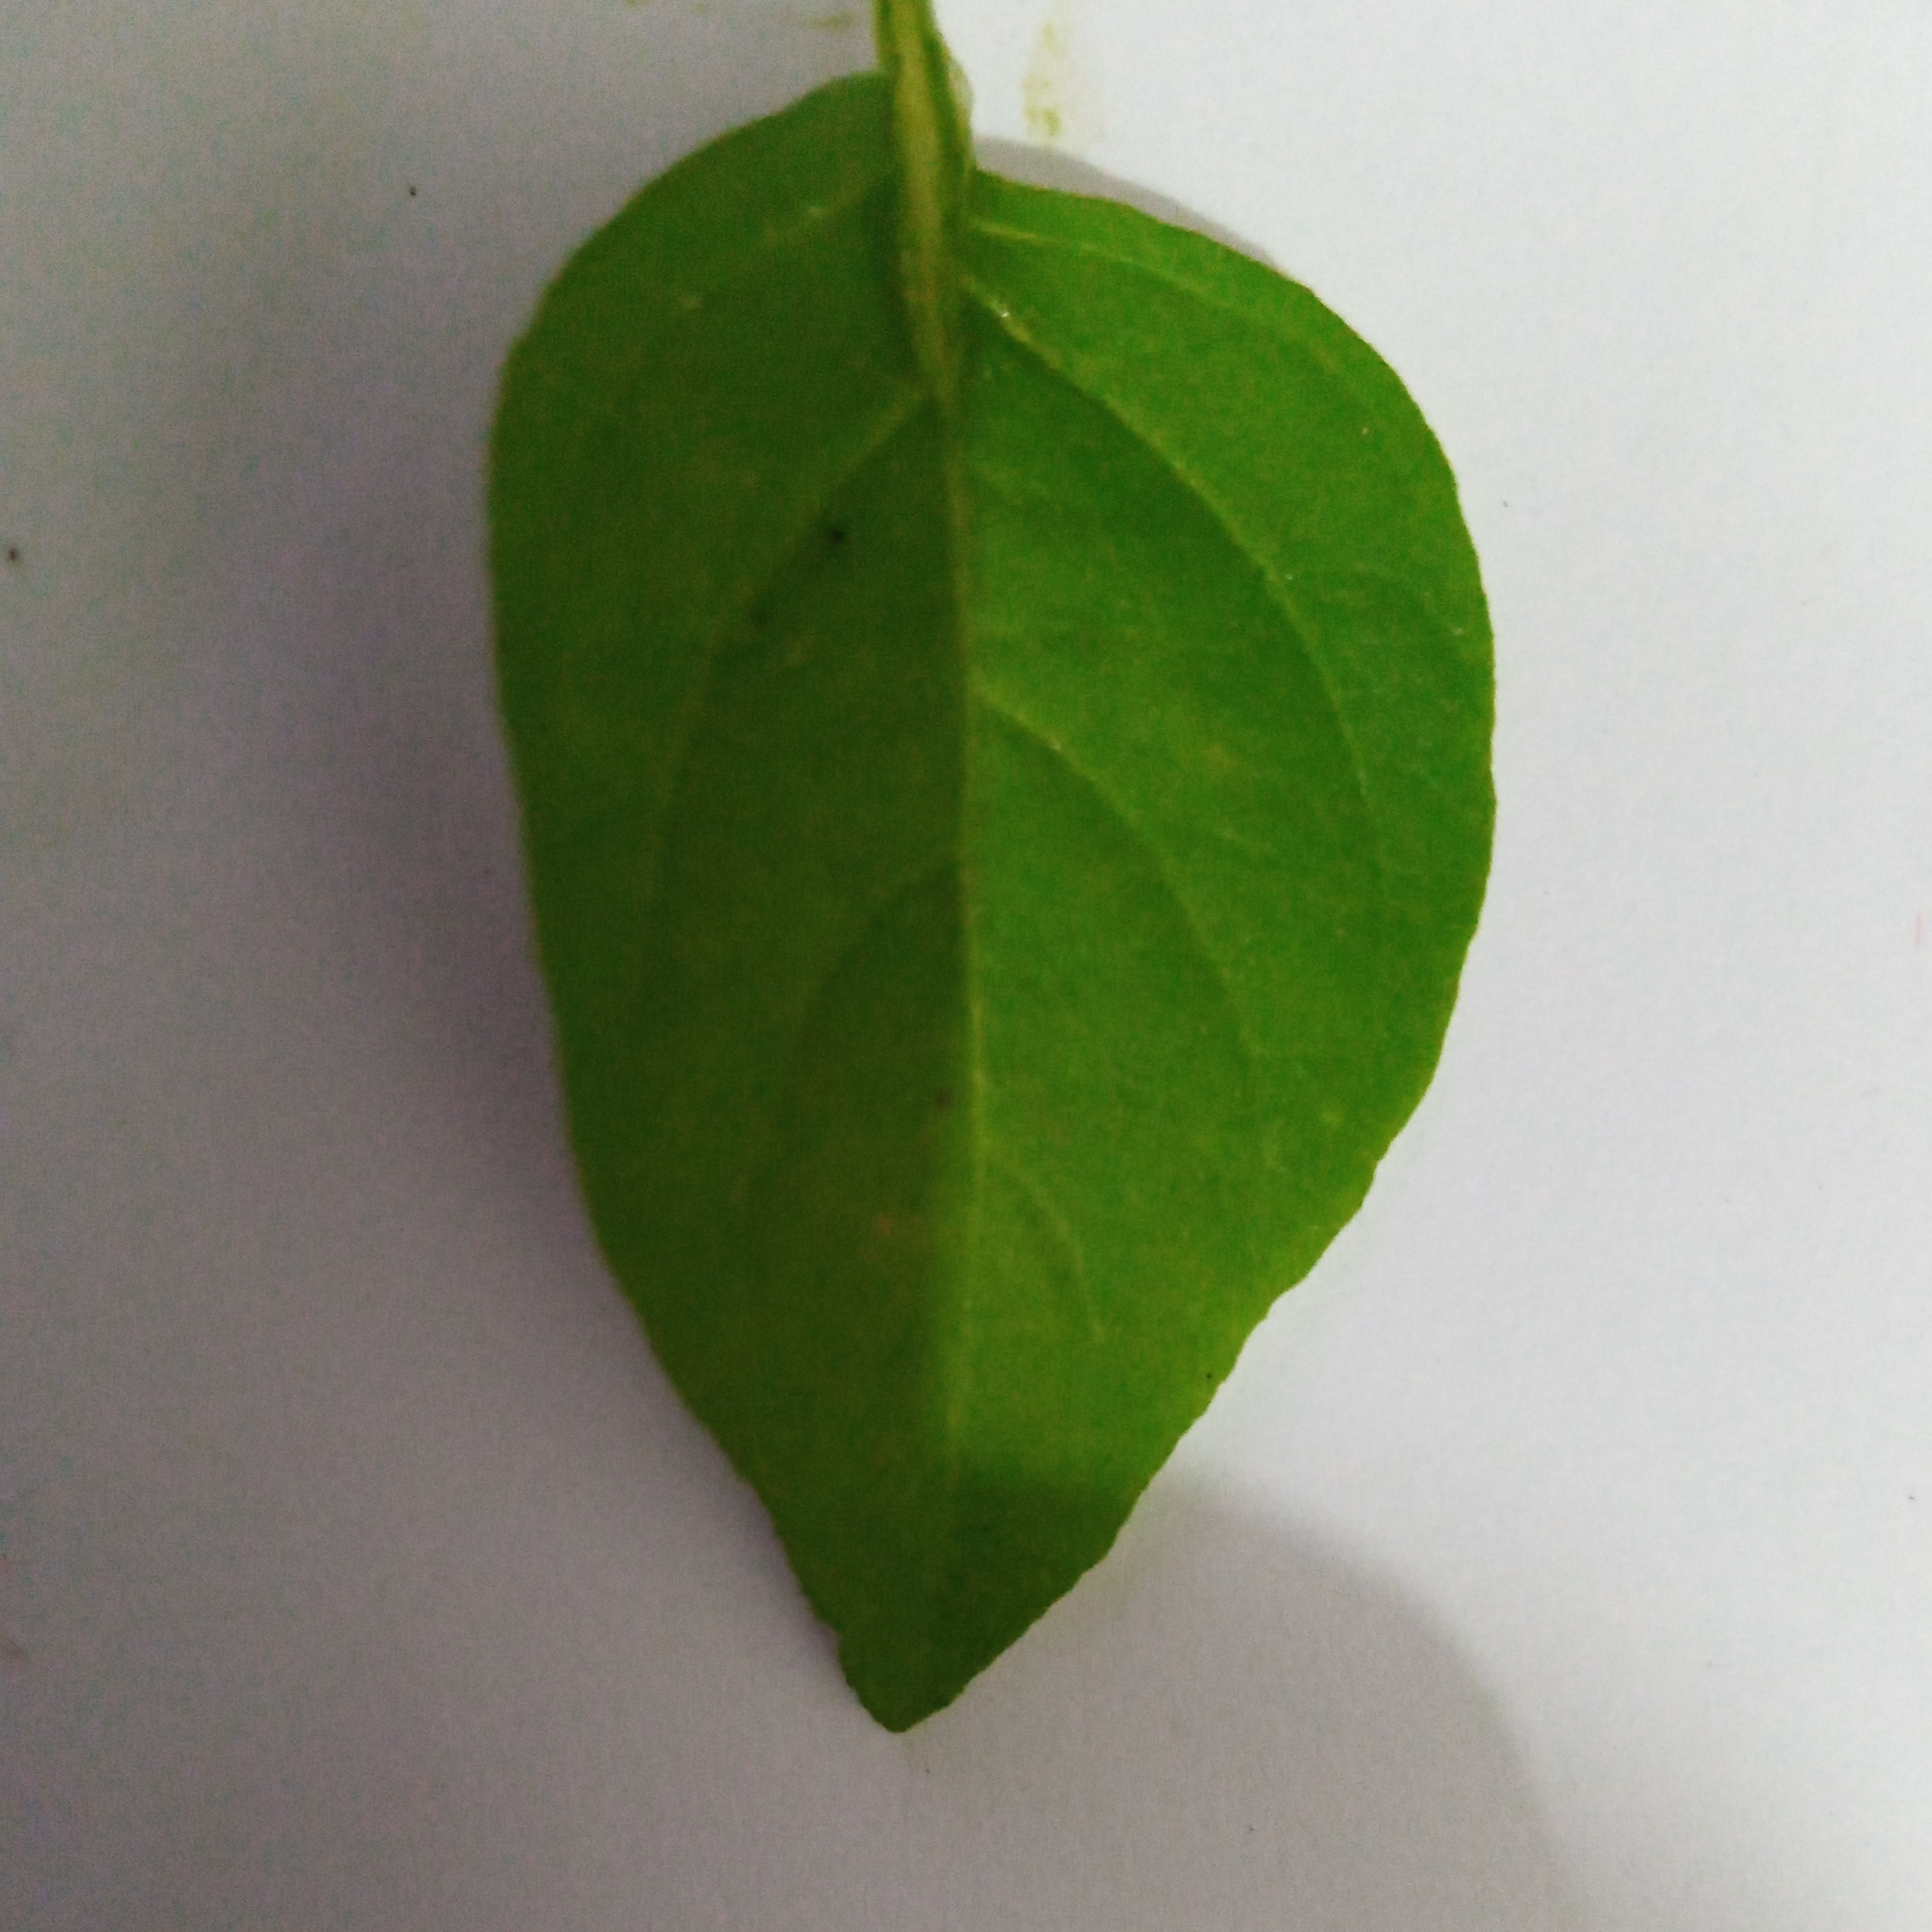Leaf: (304, 58, 1713, 1805)
